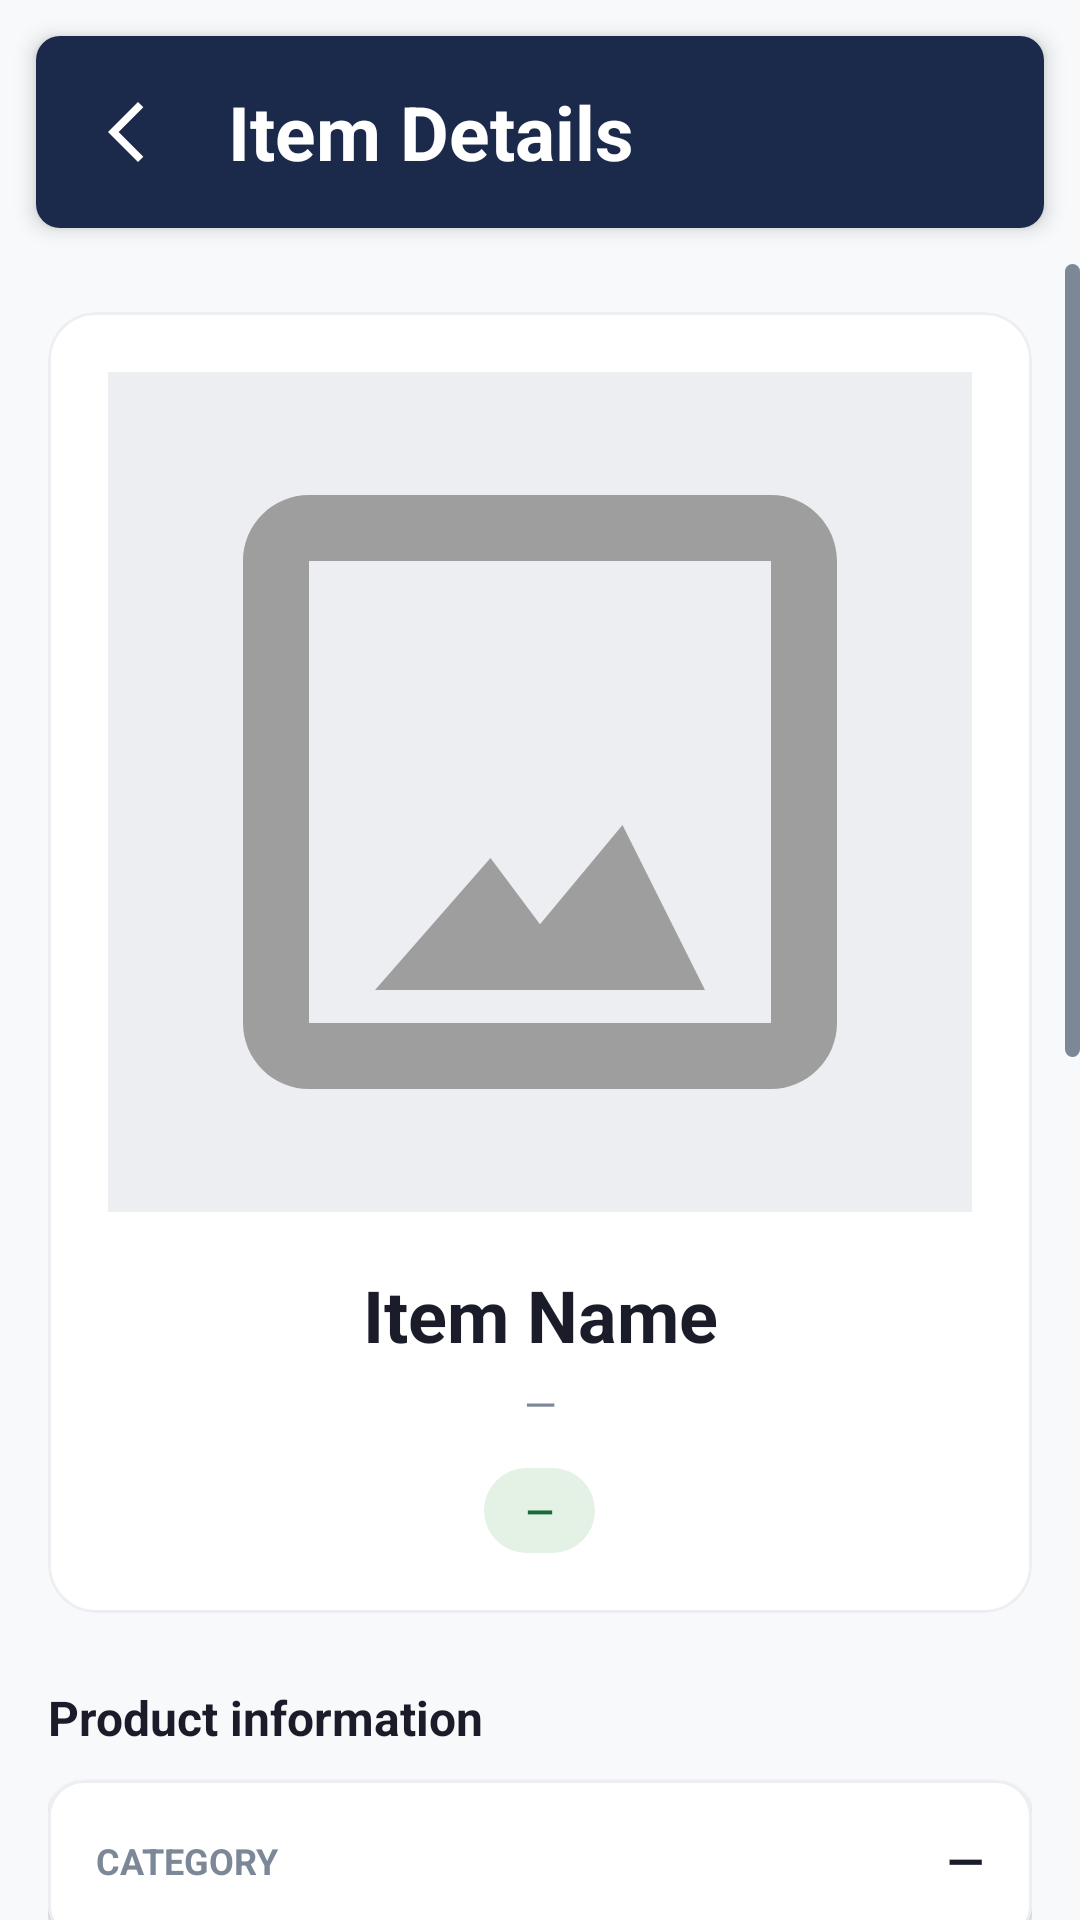

Icons on this 1080×1920 Android screen, each with the point to tap as [x,y]:
Back: [125,132]
